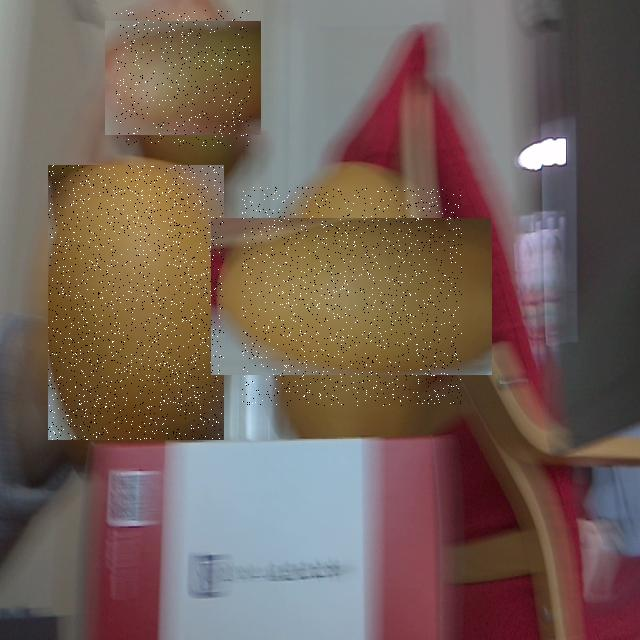apple: (116, 10, 251, 146)
pear: (48, 165, 225, 440), (242, 187, 462, 406)
